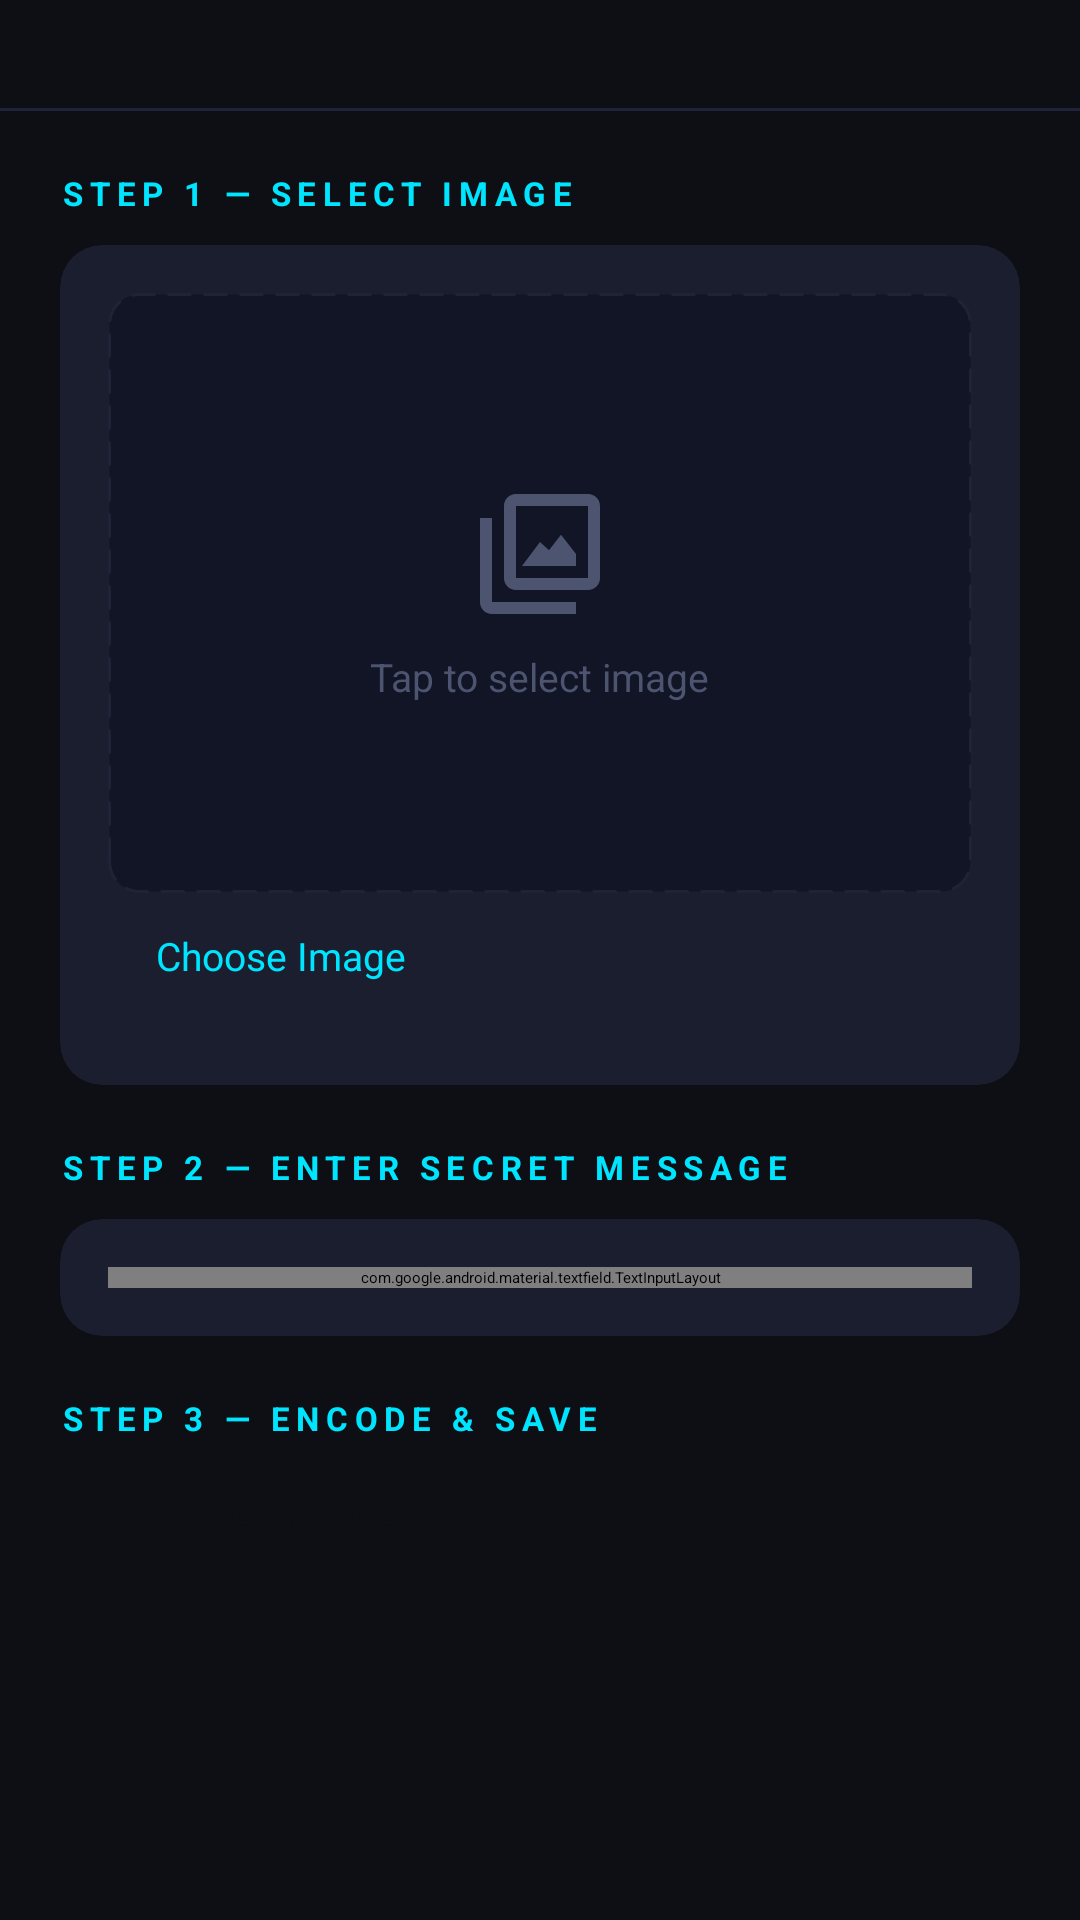

Named icons in this screenshot (1080w x 1920h) and their bounding boxes, (x1, y1, x2, y2):
add photo: (480, 494, 600, 614)
